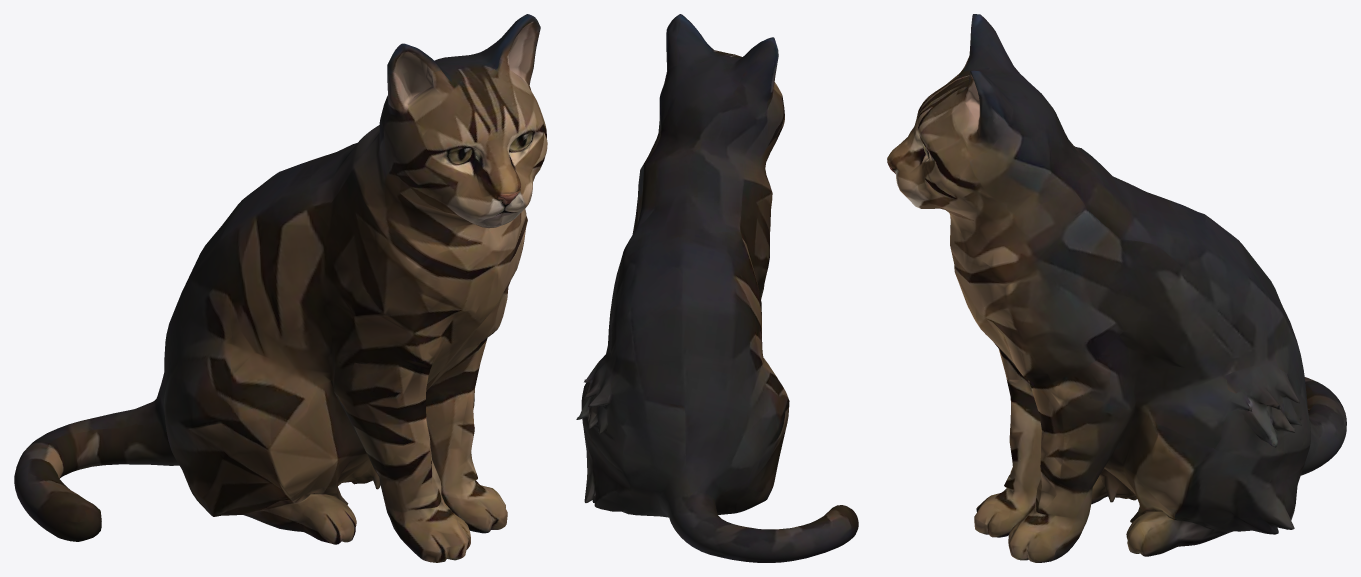
The model's file is sushi.glb.
3 renders of one model, left to right at view 1: azimuth 30°, elevation 25°; view 2: azimuth 150°, elevation 25°; view 3: azimuth 270°, elevation 25°, orthographic. The views are drawn at different scales.
Parts seen in each view (by area): view 1: tripo_node_4019bd39-7add-4bfc-8569-9c47b69ce6df; view 2: tripo_node_4019bd39-7add-4bfc-8569-9c47b69ce6df; view 3: tripo_node_4019bd39-7add-4bfc-8569-9c47b69ce6df.
Part boxes in pixels (x1,y1,x2,y2): tripo_node_4019bd39-7add-4bfc-8569-9c47b69ce6df: (14, 14, 547, 562); tripo_node_4019bd39-7add-4bfc-8569-9c47b69ce6df: (576, 14, 858, 562); tripo_node_4019bd39-7add-4bfc-8569-9c47b69ce6df: (887, 14, 1346, 562).
Bounding box in the file's own units: 0.3716 × 0.4968 × 0.4206.
1 material, 1 textured.
